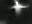person: (7, 1, 31, 17)
